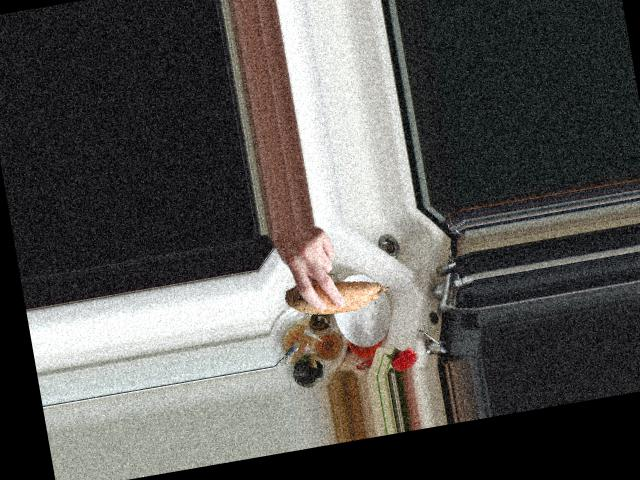sweet_potato: (279, 264, 396, 321)
